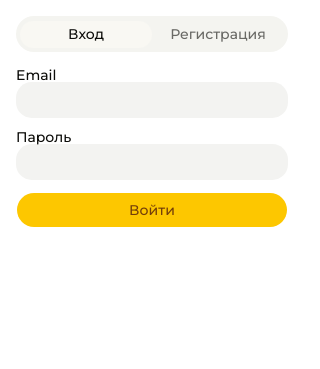
HomePage › switches to the registration tab
Click the tab "Регистрация" at (218, 34), box [152,20,284,48]
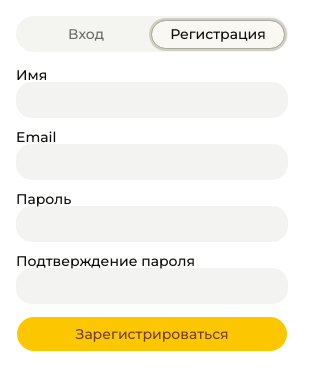
Result: the button "Зарегистрироваться" is shown at [16,316,288,352]
Click the tab "Вход" at (86, 34), box [20,20,152,48]
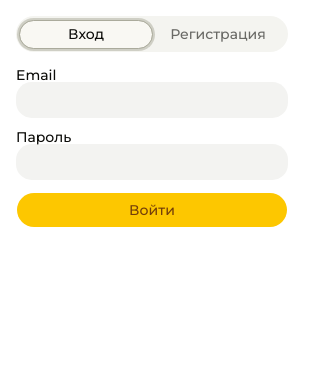
Result: the button "Войти" is shown at [16,192,288,228]
